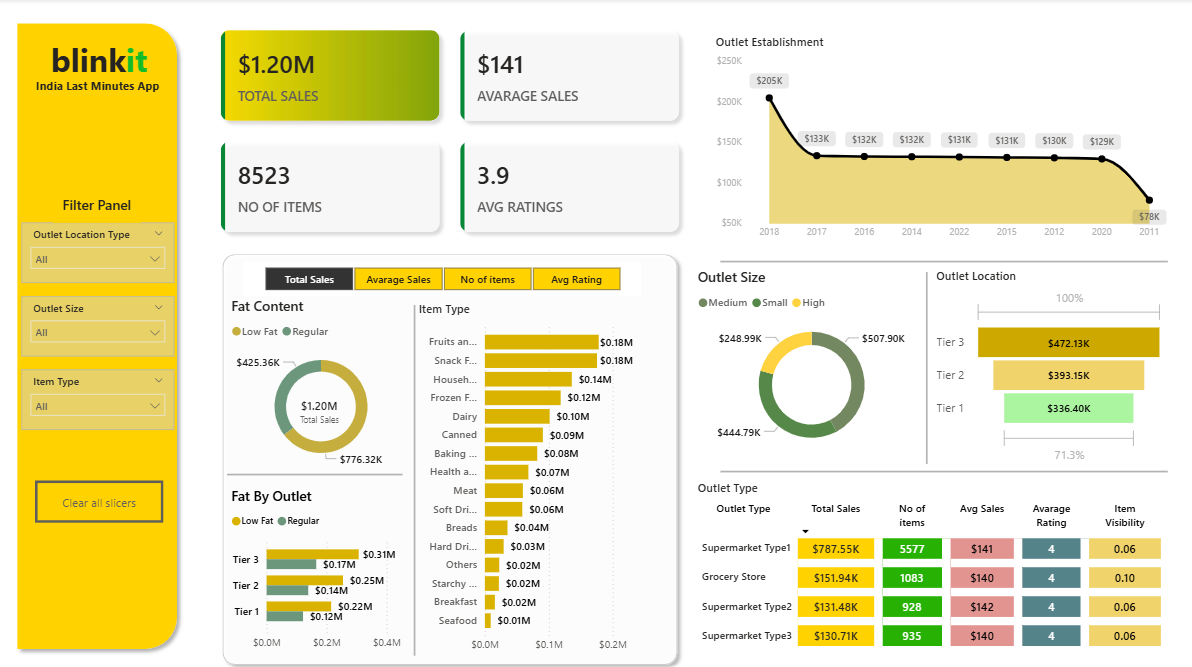

The dashboard page shown, as its layout file describes it:
{"tool":"powerbi","page":{"name":"Page 1","canvas":[1400,800],"ordinal":0},"visuals":[{"type":"shape","box":[12.4,19.4,205,750],"z":0},{"type":"textbox","box":[42.4,40.6,150.2,67.2],"z":1000},{"type":"textbox","box":[26.5,86.6,178.5,35.3],"z":2000},{"type":"cardVisual","fields":{"Data":["BlinkIT Grocery Data.Total Sales","BlinkIT Grocery Data.Avarage Sales","BlinkIT Grocery Data.No of items","BlinkIT Grocery Data.Avg Rating"]},"box":[242.1,19.4,570.9,270.4],"z":3000},{"type":"shape","box":[242,289,550,500],"z":4000},{"type":"donutChart","title":"Fat Content","fields":{"Y":["BlinkIT Grocery Data.Total Sales"],"Category":["BlinkIT Grocery Data.Item Fat Content"]},"box":[266.9,348.2,219.2,208.5],"z":5000},{"type":"slicer","fields":{"Values":["Metrics.Metrics"]},"box":[286.3,307.5,464.8,40.6],"z":6000},{"type":"cardVisual","fields":{"Data":["BlinkIT Grocery Data.Total Sales"]},"box":[334,448.9,83.1,65.4],"z":7000},{"type":"clusteredBarChart","title":"Fat By Outlet","fields":{"Y":["BlinkIT Grocery Data.Total Sales"],"Category":["BlinkIT Grocery Data.Outlet Location Type"],"Series":["BlinkIT Grocery Data.Item Fat Content"]},"box":[266.9,570.9,219.2,199.7],"z":8000},{"type":"shape","box":[266.9,547.9,205,17.7],"z":9000},{"type":"shape","box":[477.2,358.8,17.7,410],"z":10000},{"type":"barChart","title":"Item Type","fields":{"Y":["BlinkIT Grocery Data.Total Sales"],"Category":["BlinkIT Grocery Data.Item Type"]},"box":[486,353.5,277.5,420.6],"z":11000},{"type":"lineChart","title":"Outlet Establishment","fields":{"Category":["BlinkIT Grocery Data.Outlet Establishment Year"],"Y":["BlinkIT Grocery Data.Total Sales"]},"box":[834.2,40.6,539,249.2],"z":12000},{"type":"shape","box":[843,296.9,523.1,21.2],"z":13000},{"type":"donutChart","title":"Outlet Size","fields":{"Y":["BlinkIT Grocery Data.Total Sales"],"Category":["BlinkIT Grocery Data.Outlet Size"]},"box":[813,314.6,275.7,224.5],"z":14000},{"type":"shape","box":[1079.8,319.9,8.8,224.5],"z":15000},{"type":"funnel","title":"Outlet Location","fields":{"Category":["BlinkIT Grocery Data.Outlet Location Type"],"Y":["BlinkIT Grocery Data.Total Sales"]},"box":[1090.5,314.6,275.7,233.3],"z":16000},{"type":"shape","box":[843,542.6,523.1,21.2],"z":17000},{"type":"pivotTable","title":"Outlet Type","fields":{"Values":["BlinkIT Grocery Data.Total Sales","BlinkIT Grocery Data.No of items","BlinkIT Grocery Data.Avarage Sales","BlinkIT Grocery Data.Avg Rating","Avg(BlinkIT Grocery Data.Item Visibility)"],"Rows":["BlinkIT Grocery Data.Outlet Type"]},"box":[813,562,560.2,217.4],"z":18000},{"type":"slicer","fields":{"Values":["BlinkIT Grocery Data.Outlet Location Type"]},"box":[26.5,261.6,178.5,70.7],"z":19000},{"type":"slicer","fields":{"Values":["BlinkIT Grocery Data.Outlet Size"]},"box":[26.5,348.2,178.5,70.7],"z":20000},{"type":"slicer","fields":{"Values":["BlinkIT Grocery Data.Item Type"]},"box":[26.5,433,178.5,70.7],"z":21000},{"type":"textbox","box":[63.6,224.5,102.5,37.1],"z":21002},{"type":"actionButton","box":[42.4,563.8,150.2,49.5],"z":21003}]}

Visuals, with their boxes in screenshot pixels (x1, y1, x2, y2), scaled from the page's 1400x800 canvas onto the 1192x667 screenshot:
shape: (x1=11, y1=16, x2=185, y2=641)
textbox: (x1=36, y1=34, x2=164, y2=90)
textbox: (x1=23, y1=72, x2=175, y2=102)
cardVisual - BlinkIT Grocery Data.Total Sales x BlinkIT Grocery Data.Avarage Sales: (x1=206, y1=16, x2=692, y2=242)
shape: (x1=206, y1=241, x2=674, y2=658)
"Fat Content" donutChart: (x1=227, y1=290, x2=414, y2=464)
slicer - Metrics.Metrics: (x1=244, y1=256, x2=640, y2=290)
cardVisual - BlinkIT Grocery Data.Total Sales: (x1=284, y1=374, x2=355, y2=429)
"Fat By Outlet" clusteredBarChart: (x1=227, y1=476, x2=414, y2=642)
shape: (x1=227, y1=457, x2=402, y2=472)
shape: (x1=406, y1=299, x2=421, y2=641)
"Item Type" barChart: (x1=414, y1=295, x2=650, y2=645)
"Outlet Establishment" lineChart: (x1=710, y1=34, x2=1169, y2=242)
shape: (x1=718, y1=248, x2=1163, y2=265)
"Outlet Size" donutChart: (x1=692, y1=262, x2=927, y2=449)
shape: (x1=919, y1=267, x2=927, y2=454)
"Outlet Location" funnel: (x1=928, y1=262, x2=1163, y2=457)
shape: (x1=718, y1=452, x2=1163, y2=470)
"Outlet Type" pivotTable: (x1=692, y1=469, x2=1169, y2=650)
slicer - BlinkIT Grocery Data.Outlet Location Type: (x1=23, y1=218, x2=175, y2=277)
slicer - BlinkIT Grocery Data.Outlet Size: (x1=23, y1=290, x2=175, y2=349)
slicer - BlinkIT Grocery Data.Item Type: (x1=23, y1=361, x2=175, y2=420)
textbox: (x1=54, y1=187, x2=141, y2=218)
actionButton: (x1=36, y1=470, x2=164, y2=511)
